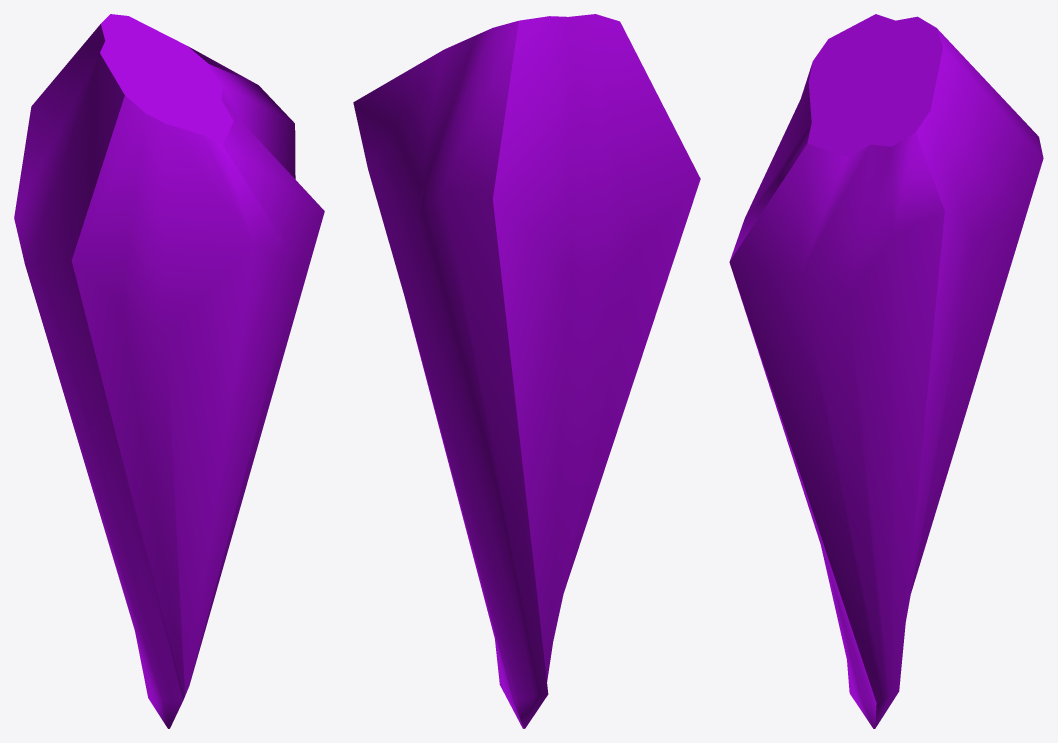
The model's file is Crystall.fbx.
3 views of the same model, side by side, from view 1: azimuth 30°, elevation 25°; view 2: azimuth 150°, elevation 25°; view 3: azimuth 270°, elevation 25° (orthographic). The views are drawn at different scales.
Parts seen in each view (by area): view 1: pCube22; view 2: pCube22; view 3: pCube22.
Boxes of the visible parts, x1=… form: pCube22: x1=14, y1=14, x2=324, y2=728; pCube22: x1=353, y1=14, x2=700, y2=728; pCube22: x1=729, y1=14, x2=1043, y2=728.
Size of the model in its own units: 7.77 by 19.41 by 8.01.
